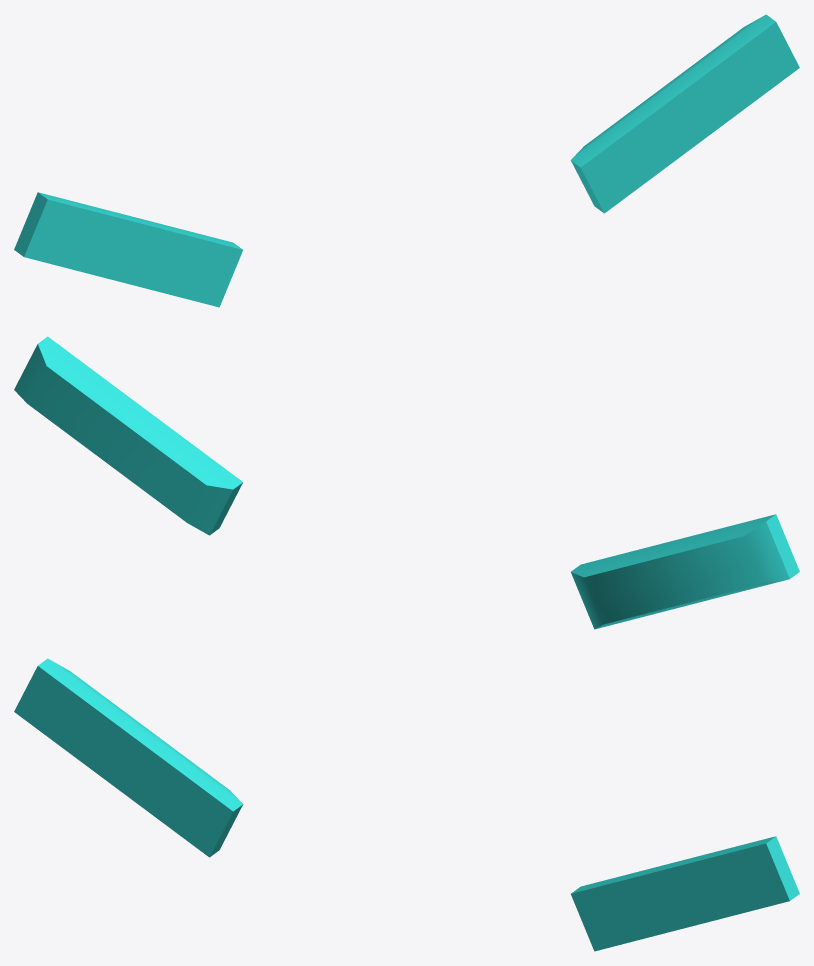
The model's file is yeux_méchant_machine_a_laver.fbx.
3 renders of one model, top to bottom at view 1: azimuth 30°, elevation 25°; view 2: azimuth 150°, elevation 25°; view 3: azimuth 330°, elevation 25°, orthographic.
Visible parts, largest first — view 1: Cube.024; view 2: Cube.024; view 3: Cube.024.
Boxes of the visible parts, left/top/right/bottom form: Cube.024: left=14, top=14, right=799, bottom=307; Cube.024: left=14, top=336, right=799, bottom=629; Cube.024: left=14, top=658, right=799, bottom=951.
Size of the model in its own units: 45.87 by 8.47 by 1.71.
